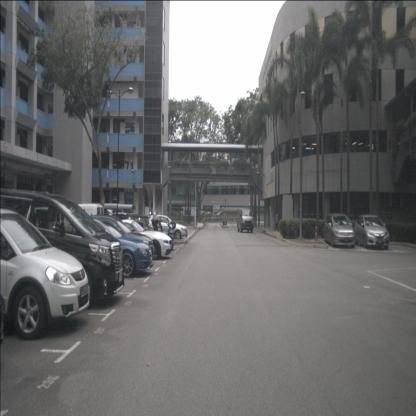human-pedestrian-adult: (152, 208, 158, 243)
vehicle-car: (0, 186, 125, 310), (0, 207, 90, 339), (55, 215, 153, 279), (102, 218, 172, 261), (62, 204, 105, 238), (354, 214, 390, 250), (146, 214, 188, 242), (323, 213, 356, 248), (236, 207, 254, 233)
vehicle-motorcycle: (150, 217, 165, 251), (166, 217, 176, 251), (137, 217, 153, 238)
vehicle-truck: (90, 203, 136, 233)
